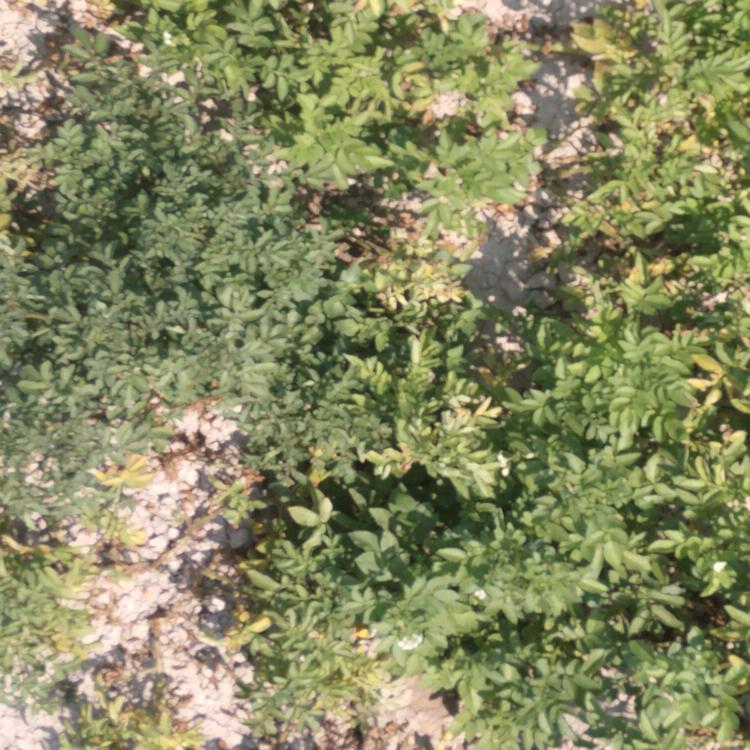healthy: (430, 441, 734, 750), (1, 128, 295, 380), (62, 1, 370, 130)
stressed: (553, 3, 746, 430), (315, 136, 523, 427), (242, 437, 428, 749), (1, 401, 96, 686), (380, 5, 531, 146), (107, 387, 179, 537), (59, 690, 196, 750), (178, 503, 229, 636)
